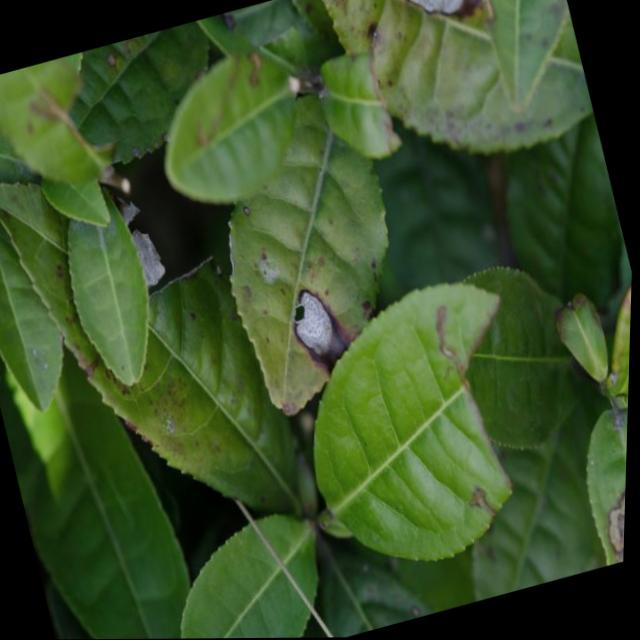Tea cloud leaf blight: (276, 272, 355, 367)
